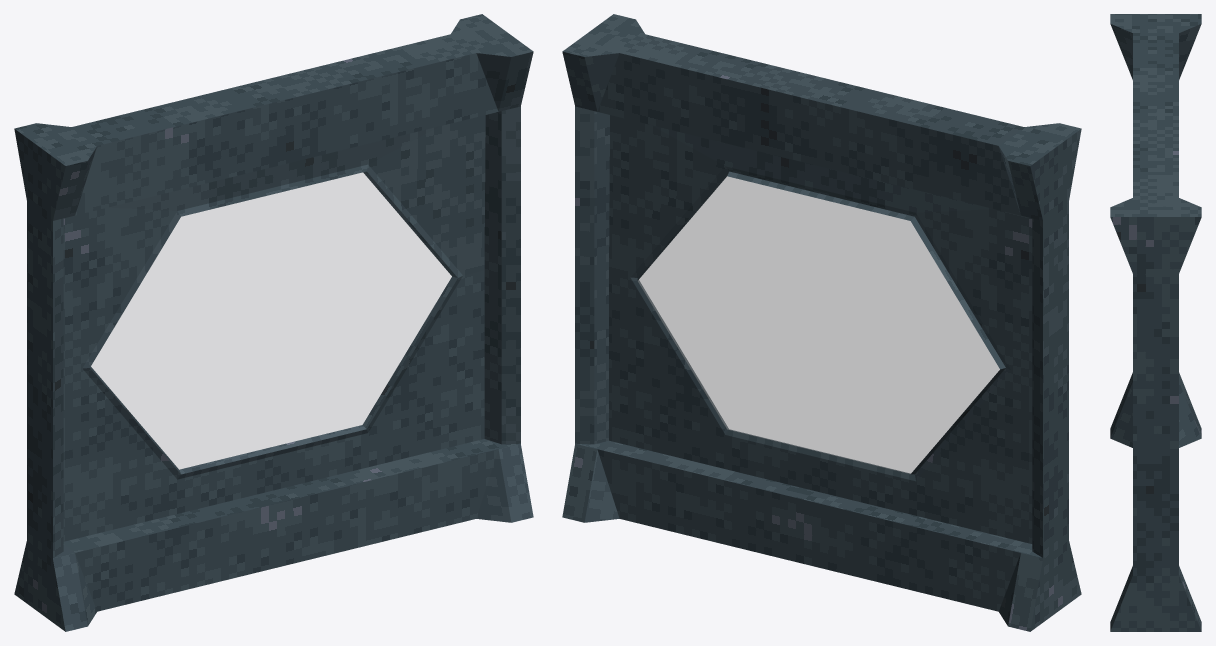
Rendered from Window.fbx.
3 views of the same model, side by side, from view 1: azimuth 30°, elevation 25°; view 2: azimuth 150°, elevation 25°; view 3: azimuth 270°, elevation 25° (orthographic). The views are drawn at different scales.
Visible parts, largest first — view 1: Gen1Window; view 2: Gen1Window; view 3: Gen1Window.
Boxes of the visible parts, left/top/right/bottom form: Gen1Window: left=14, top=14, right=533, bottom=631; Gen1Window: left=562, top=14, right=1081, bottom=631; Gen1Window: left=1110, top=14, right=1201, bottom=631.
Bounding box in the file's own units: 421 × 80.01 × 401.
2 materials, 1 textured.
